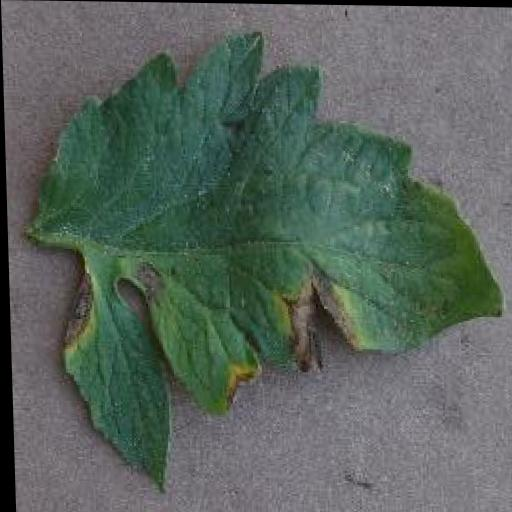Early Blight: (17, 33, 510, 494)
